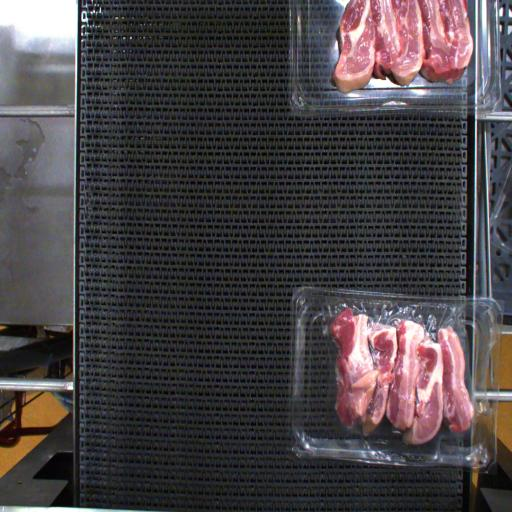unsealed: (310, 290, 489, 442)
